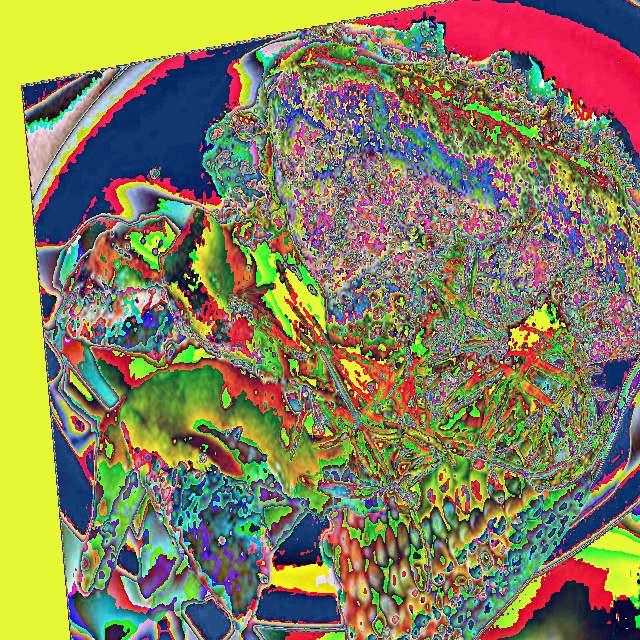background: (56, 57, 639, 639)
